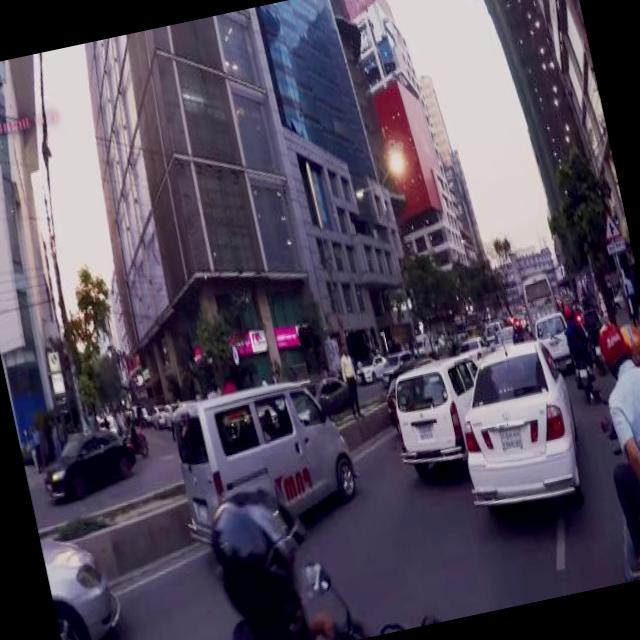bus: (519, 268, 560, 320)
car: (444, 328, 592, 510), (386, 348, 496, 467), (39, 516, 132, 640), (32, 415, 142, 496), (533, 305, 575, 363), (312, 368, 356, 412), (377, 343, 420, 380), (458, 331, 494, 362), (354, 351, 390, 382), (490, 320, 519, 342)
motorcycle: (597, 396, 640, 577), (570, 349, 600, 399), (122, 420, 152, 460)
truck: (166, 368, 365, 542), (416, 326, 437, 349)
